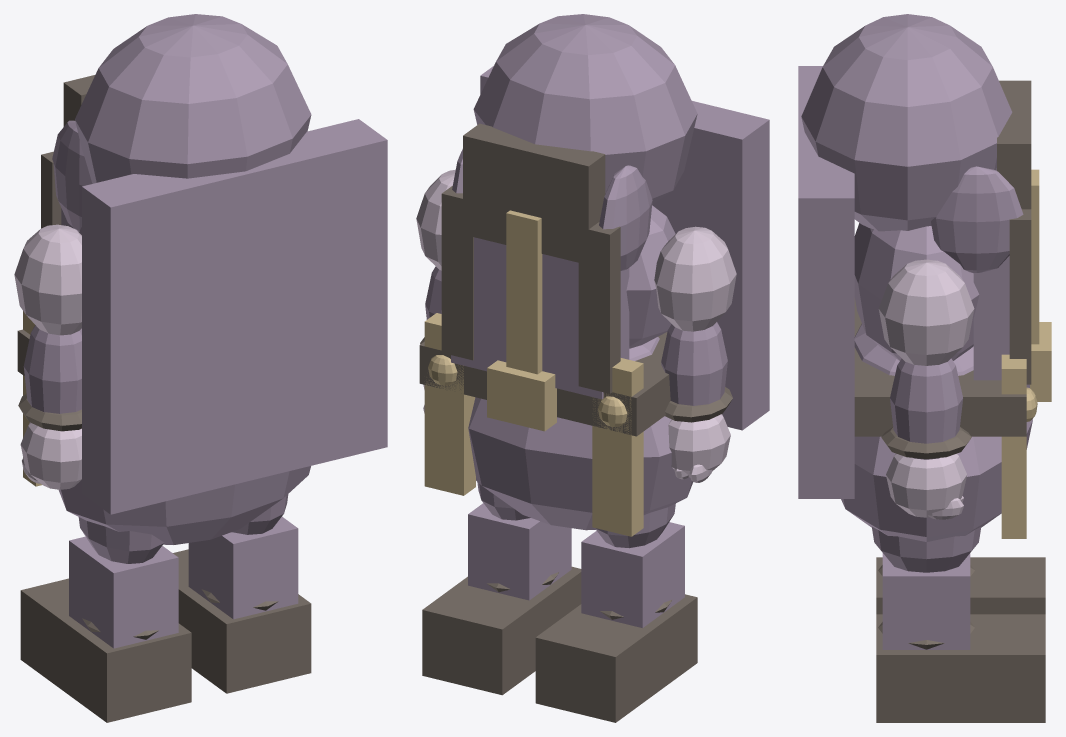
Rendered from mage.gltf.
3 renders of one model, left to right at view 1: azimuth 30°, elevation 25°; view 2: azimuth 150°, elevation 25°; view 3: azimuth 270°, elevation 25°, orthographic. The views are drawn at different scales.
Parts seen in each view (by area): view 1: Part7, Part10, Part22, Part34, Part21, Part33, Part6, Part17, Part18, Part19, Part15, Part20 (+4 smaller); view 2: Part10, Part7, Part6, Part22, Part11, Part34, Part3, Part21, Part33, Part17, Part45, Part41 (+16 smaller); view 3: Part10, Part7, Part34, Part6, Part29, Part33, Part16, Part4, Part2, Part30, Part22, Part31 (+10 smaller).
Boxes of the visible parts, x1=… form: Part7: x1=82, y1=119, x2=387, y2=514; Part10: x1=75, y1=14, x2=311, y2=183; Part22: x1=20, y1=578, x2=191, y2=722; Part34: x1=173, y1=549, x2=311, y2=693; Part21: x1=69, y1=536, x2=178, y2=648; Part33: x1=188, y1=516, x2=298, y2=619; Part6: x1=58, y1=466, x2=310, y2=544; Part17: x1=14, y1=224, x2=81, y2=335; Part18: x1=23, y1=325, x2=81, y2=413; Part19: x1=20, y1=422, x2=81, y2=489; Part15: x1=52, y1=120, x2=92, y2=231; Part20: x1=78, y1=517, x2=164, y2=563; Part10: x1=473, y1=14, x2=697, y2=203; Part7: x1=480, y1=66, x2=769, y2=430; Part6: x1=468, y1=397, x2=693, y2=530; Part22: x1=535, y1=594, x2=697, y2=722; Part11: x1=463, y1=123, x2=605, y2=264; Part34: x1=422, y1=566, x2=581, y2=695; Part3: x1=451, y1=237, x2=629, y2=399; Part21: x1=581, y1=522, x2=684, y2=627; Part33: x1=468, y1=503, x2=571, y2=600; Part17: x1=654, y1=226, x2=736, y2=331; Part45: x1=592, y1=358, x2=643, y2=536; Part41: x1=578, y1=222, x2=620, y2=393; Part10: x1=801, y1=14, x2=1012, y2=231; Part7: x1=798, y1=66, x2=854, y2=498; Part34: x1=876, y1=614, x2=1045, y2=722; Part6: x1=841, y1=419, x2=1032, y2=541; Part29: x1=878, y1=259, x2=974, y2=365; Part33: x1=882, y1=553, x2=970, y2=649; Part16: x1=931, y1=166, x2=1023, y2=273; Part4: x1=854, y1=298, x2=1026, y2=436; Part2: x1=854, y1=223, x2=979, y2=360; Part30: x1=890, y1=358, x2=962, y2=459; Part22: x1=876, y1=557, x2=1045, y2=614; Part31: x1=886, y1=453, x2=967, y2=517.
Bounding box in the file's own units: 0.585 × 1.14 × 0.405.
